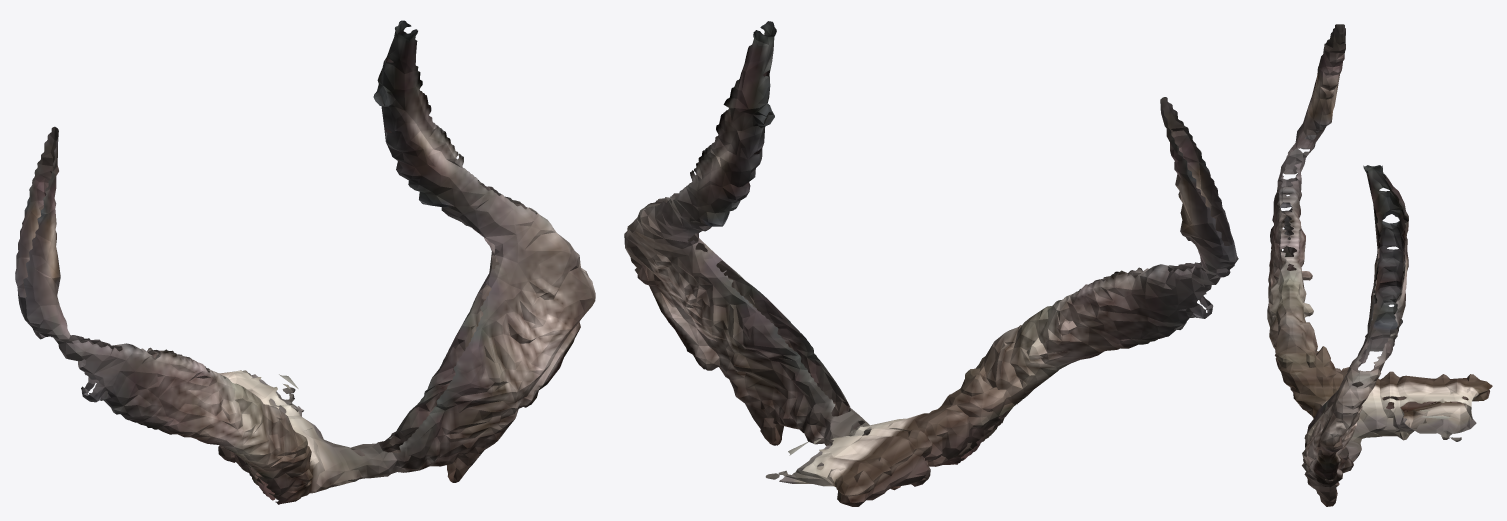
Rendered from fiendhorns.glb.
3 renders of one model, left to right at view 1: azimuth 30°, elevation 25°; view 2: azimuth 150°, elevation 25°; view 3: azimuth 270°, elevation 25°, orthographic. The views are drawn at different scales.
Visible parts, largest first — view 1: geometry_0; view 2: geometry_0; view 3: geometry_0.
Boxes of the visible parts, bbox=[...] form: geometry_0: bbox=[15, 20, 595, 504]; geometry_0: bbox=[624, 21, 1238, 506]; geometry_0: bbox=[1267, 24, 1492, 506].
Size of the model in its own units: 1.05 by 0.7781 by 0.4599.
Materials: 1 (1 with a texture image).
